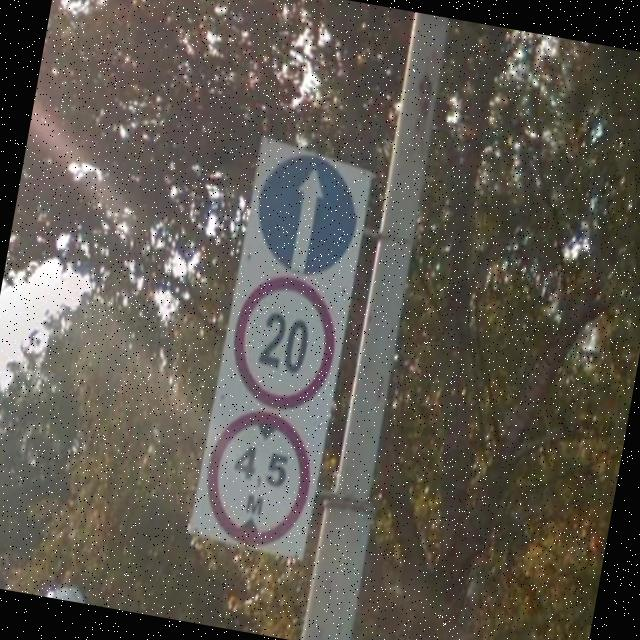Ograniczenie predkosci do 20: (215, 260, 352, 420)
